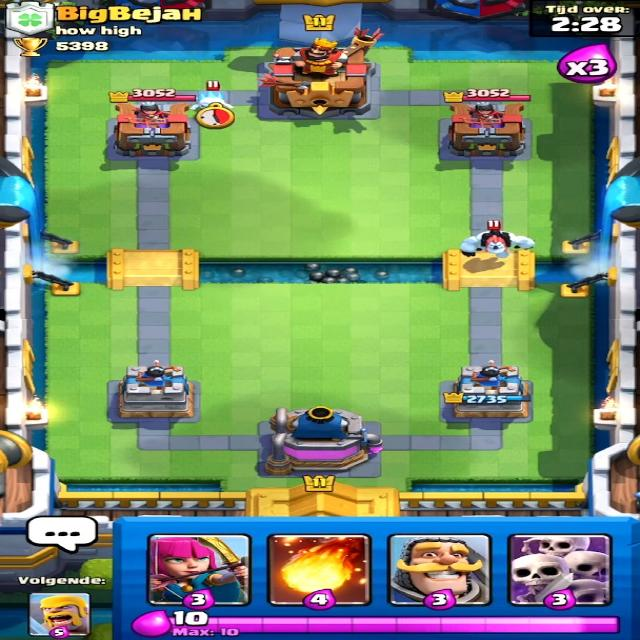Enemy_Ice_Golem_Troop: (446, 227, 549, 261)
Fireball_Card: (273, 534, 364, 604)
